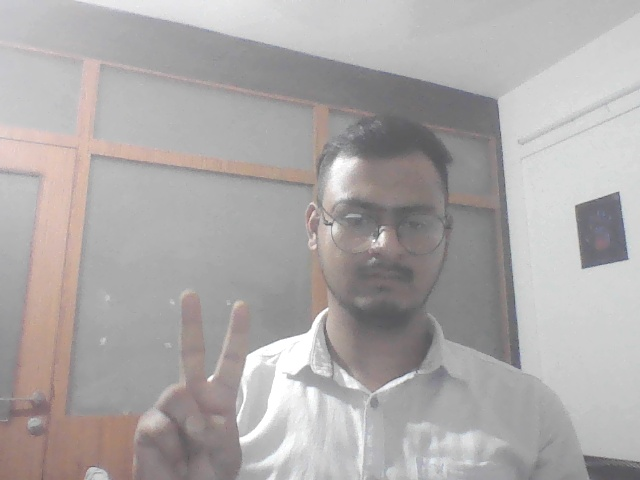Peace: (124, 283, 256, 474)
